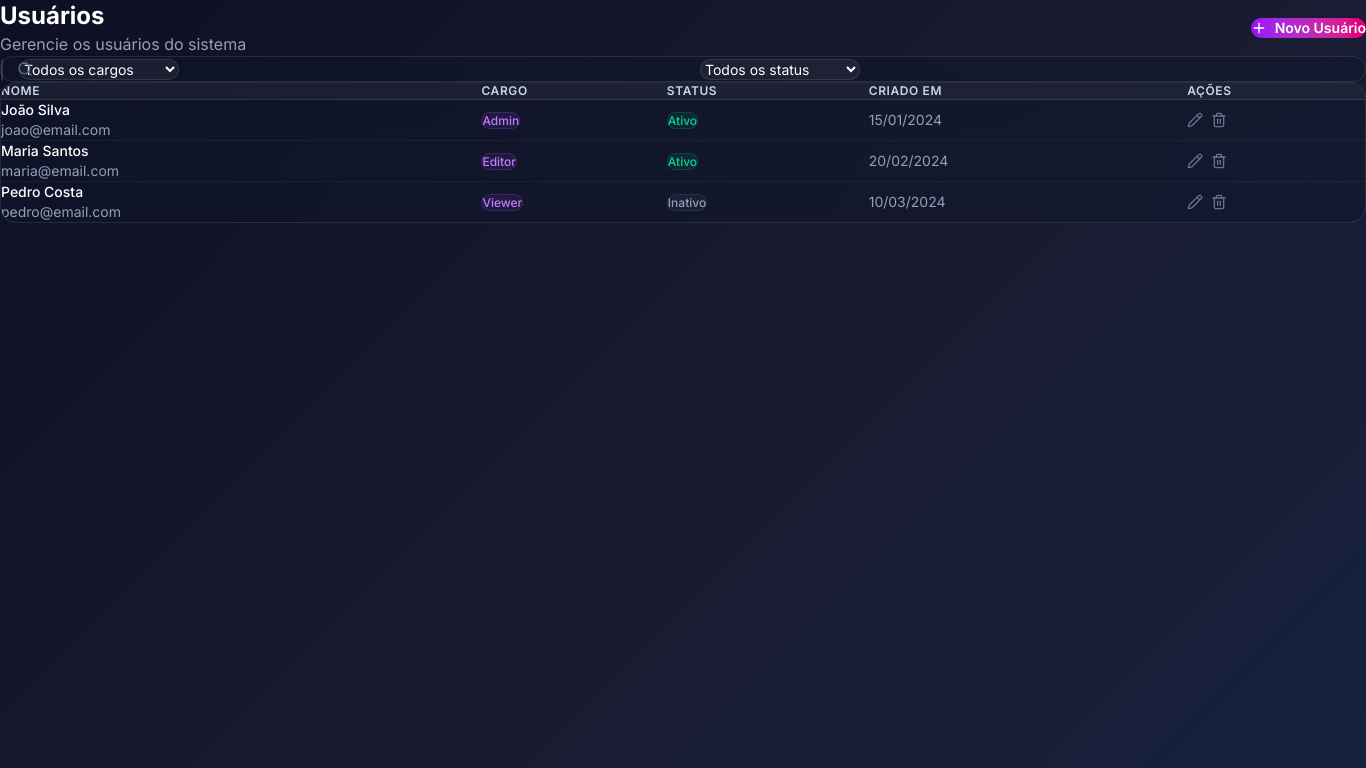
Test: UsersPage › opens edit user modal
Expected: the text "João Silva" is shown, [1,101,70,118]
Click the button named "editar".
click(1195, 120)  # box [1187,112,1203,128]
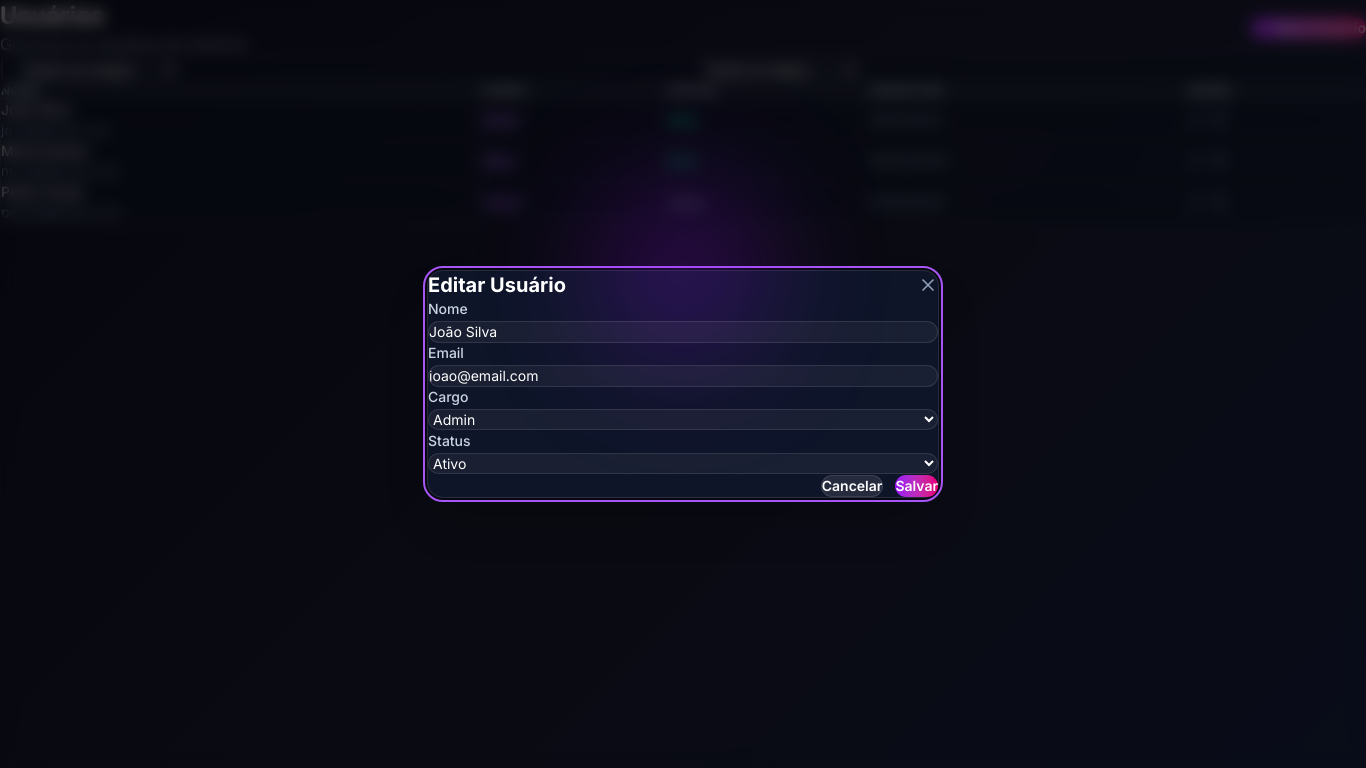
Expected: the dialog is shown
Expected: the heading "Editar Usuário" is shown, [428,271,566,299]
